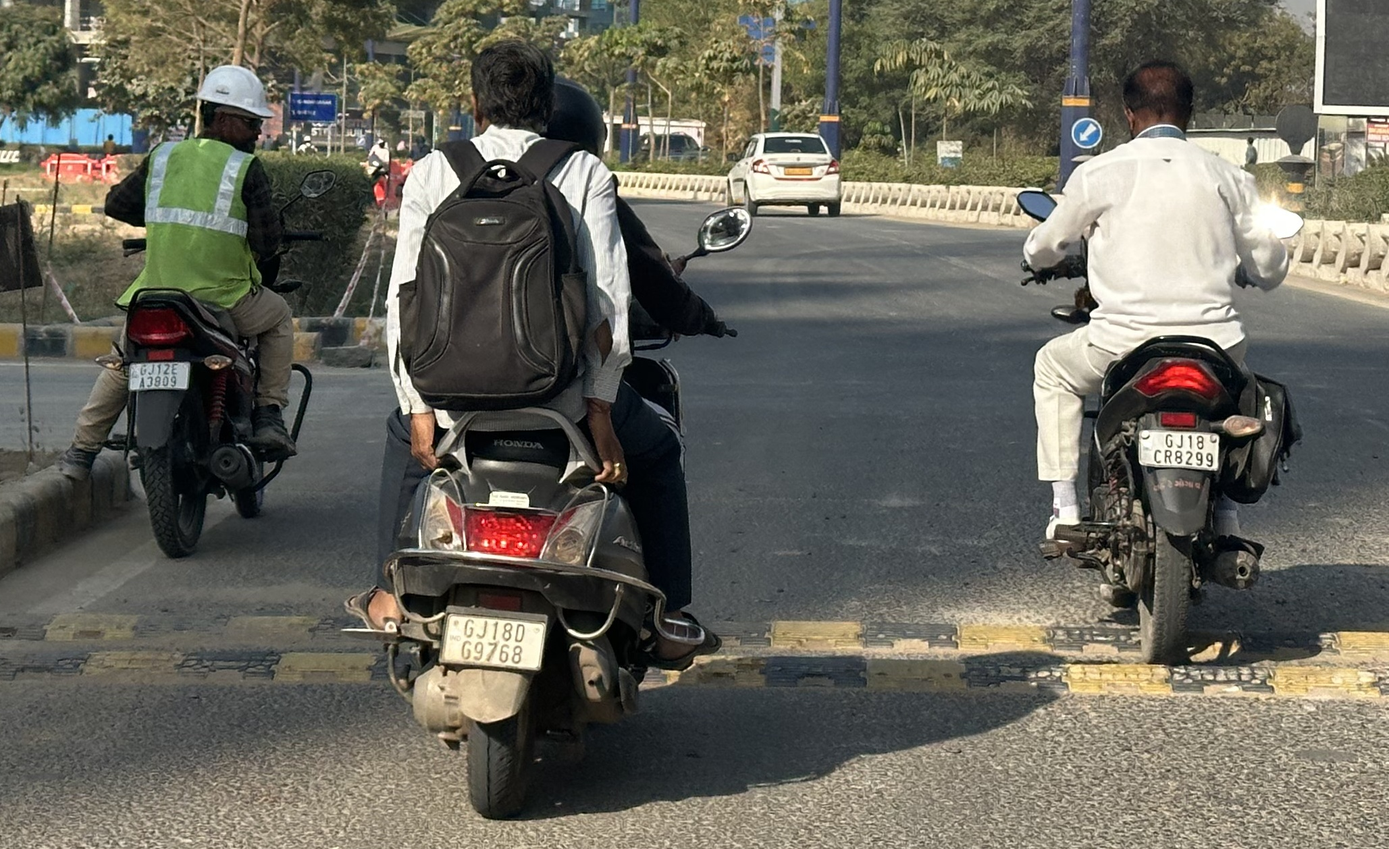BikeWithRider: (338, 29, 758, 825), (991, 48, 1330, 677), (49, 59, 335, 566)
Helmet: (521, 67, 613, 179), (184, 61, 276, 160)
NoHelmet: (460, 31, 562, 148), (1111, 49, 1209, 150)
